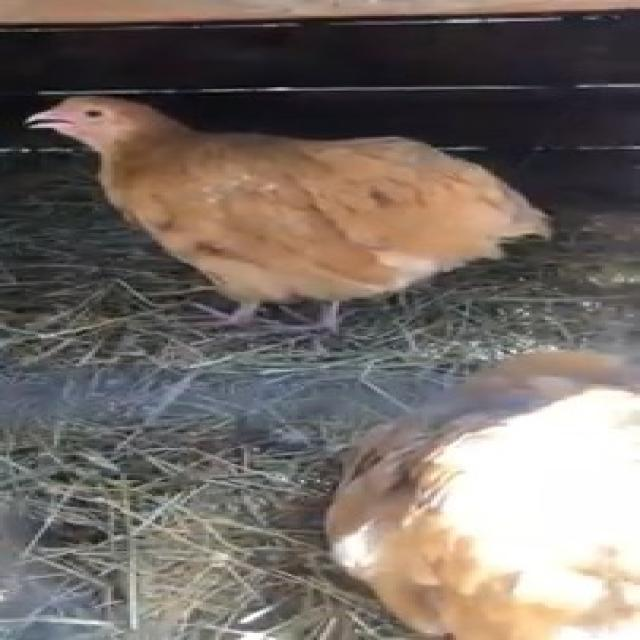Breathing: (19, 92, 554, 352)
